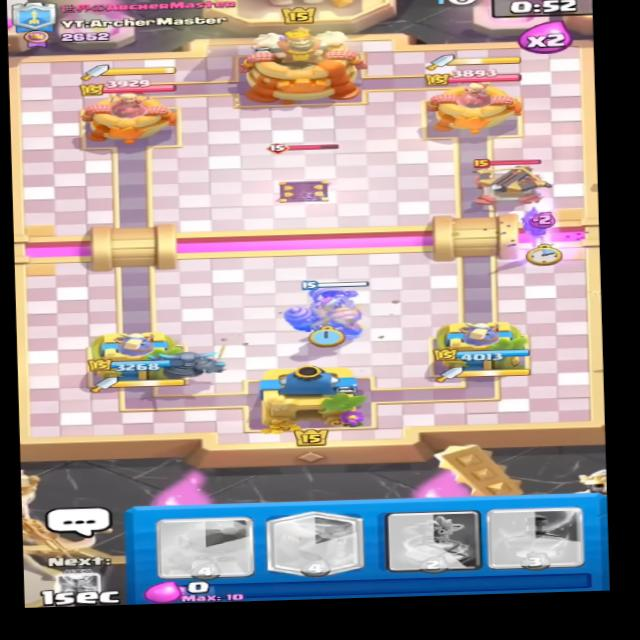evo-tesla-closed: (256, 138, 350, 205)
x-bow: (455, 151, 560, 211)
